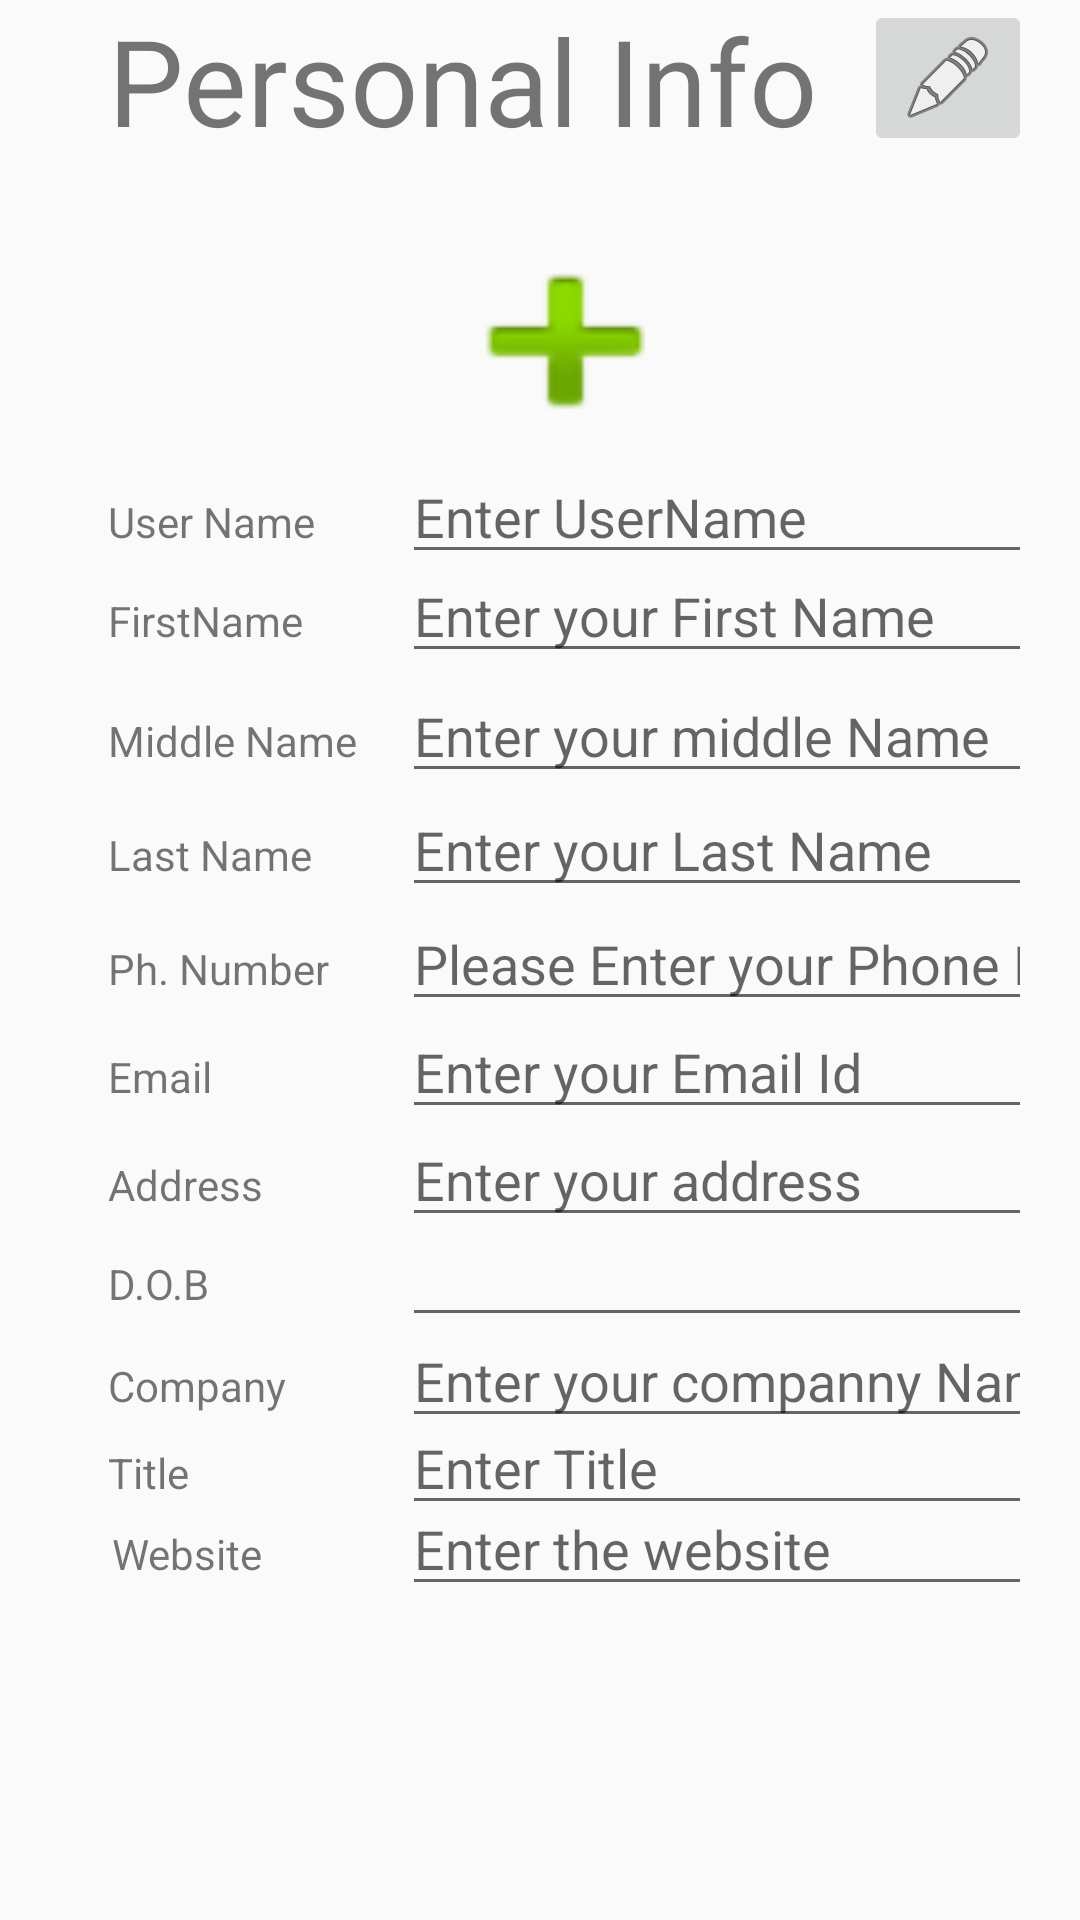

Screen size 1080 × 1920. Icon name, then its box in pixels as (x1, y1, x2, y2):
add: (486, 274, 645, 409)
edit: (876, 18, 1020, 138)
